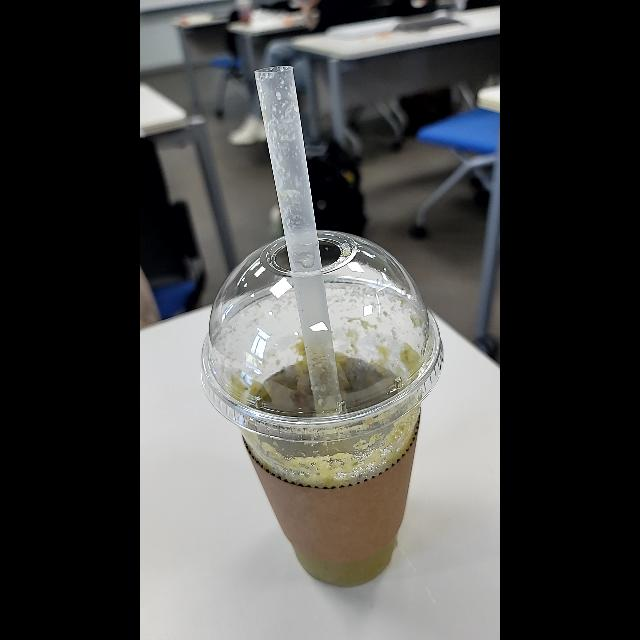plastic_cup: (204, 229, 448, 586)
plastic_cup_lid: (200, 228, 444, 440)
straw: (254, 67, 354, 426)
